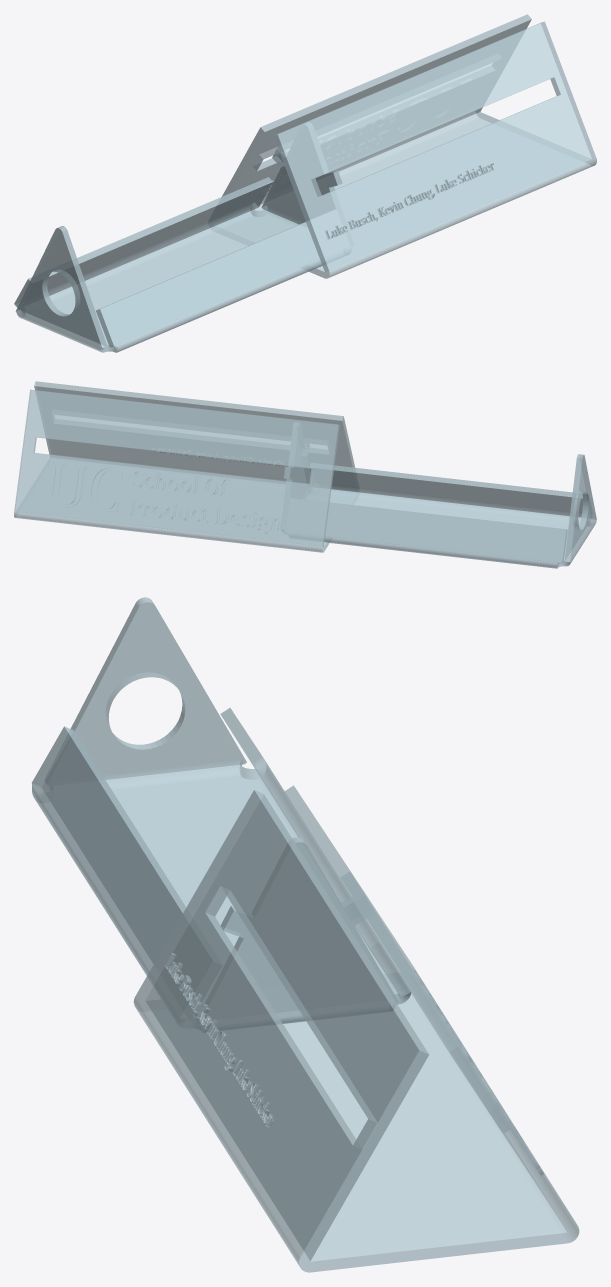
The picture shows the model from 3 angles, top to bottom: view 1: azimuth 30°, elevation 25°; view 2: azimuth 150°, elevation 25°; view 3: azimuth 270°, elevation 25°; orthographic projection. The views are drawn at different scales.
Visible parts, largest first — view 1: outside-1, inside-1; view 2: outside-1, inside-1; view 3: outside-1, inside-1.
Boxes of the visible parts, x1,y1,x2,y2 form: outside-1: (222,14,596,278); inside-1: (14,122,353,352); outside-1: (14,381,354,552); inside-1: (281,422,596,568); outside-1: (133,785,579,1272); inside-1: (32,597,411,1032).
Size of the model in its own units: 0.294 by 0.0584 by 0.1381.
